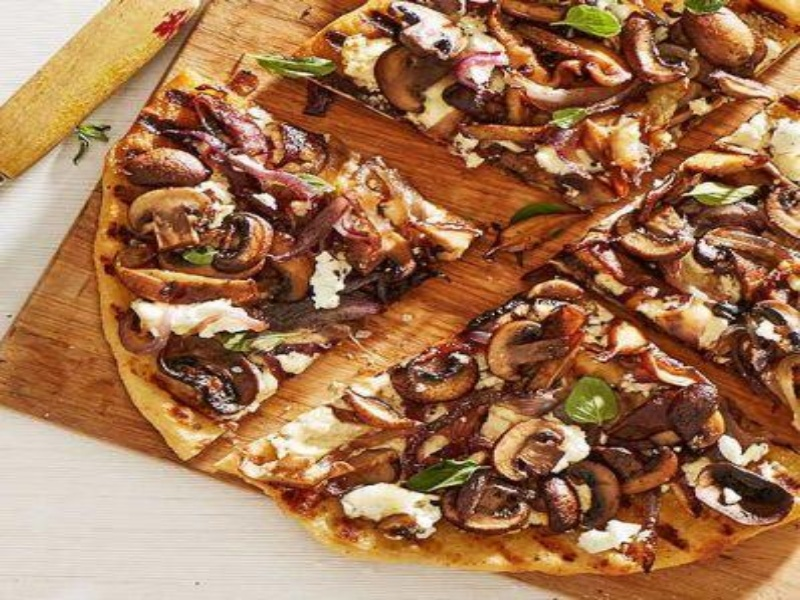champignon: (153, 330, 269, 420), (442, 465, 536, 538), (124, 184, 217, 254), (485, 316, 572, 387), (383, 347, 481, 406), (393, 1, 475, 70), (208, 210, 280, 285), (491, 420, 569, 485)
